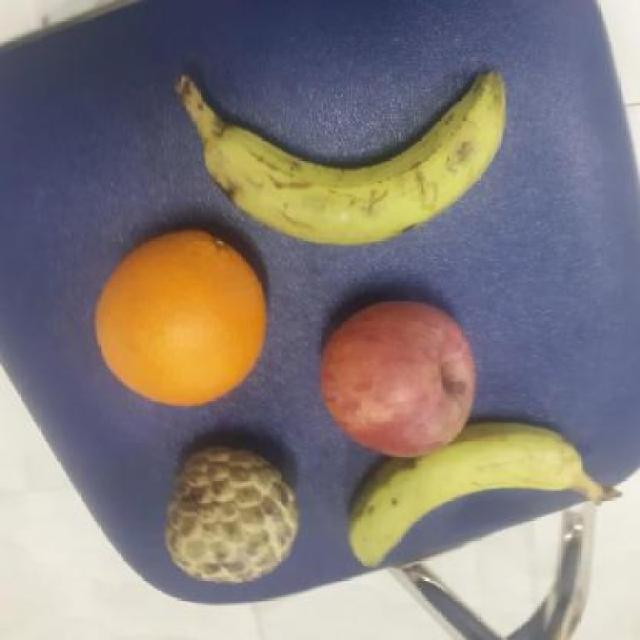apple: (317, 295, 483, 462)
banana: (198, 66, 516, 252), (337, 415, 585, 577)
oren: (87, 228, 275, 410)
sugar apple: (153, 448, 299, 587)
